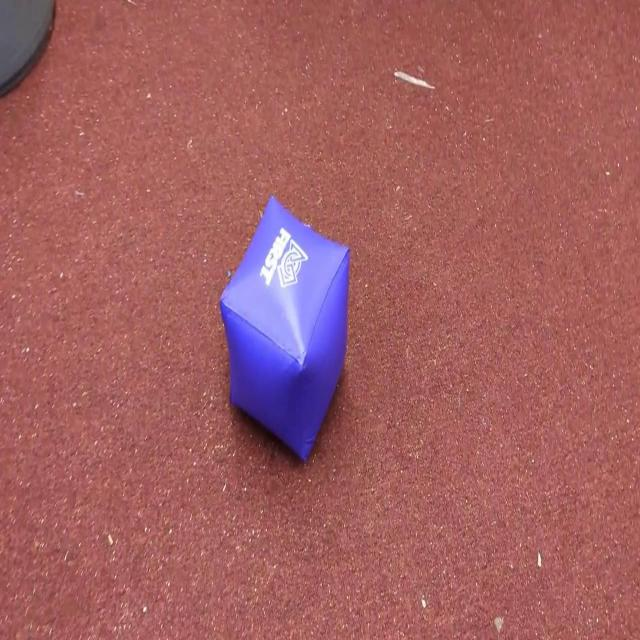frc_cube: (220, 193, 352, 467)
